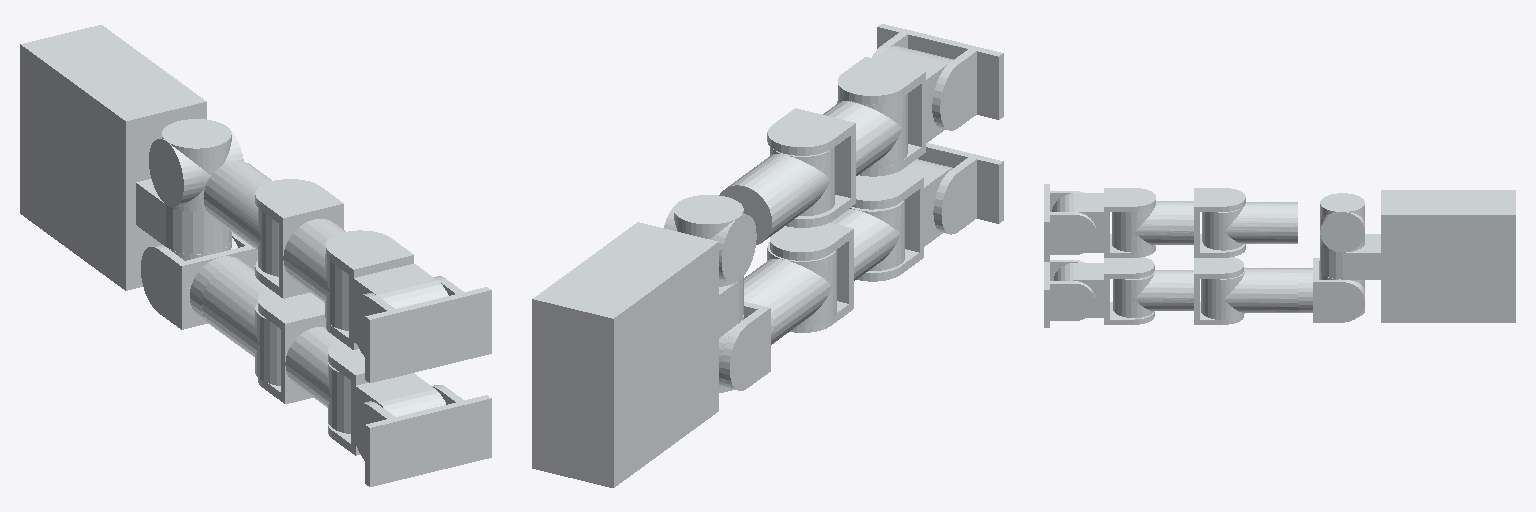
URDF robot description (simple_bipedal):
<?xml version="1.0" encoding="utf-8"?>
<!-- This URDF was automatically created by SolidWorks to URDF Exporter! Originally created by [author] ([email redacted]) 
     Commit Version:   Build Version: 1.6.9305.33219
     For more information, please see http://wiki.ros.org/sw_urdf_exporter -->
<robot
  name="simple_bipedal">
  <link
    name="base_link">
    <inertial>
      <origin
        xyz="3.14816865236183E-18 -0.0233636341691508 5.99607732512132E-17"
        rpy="0 0 0" />
      <mass
        value="10.4073975462643" />
      <inertia
        ixx="0.366615542809238"
        ixy="0.966734798109379E-17"
        ixz="0.761041258947234E-17"
        iyy="0.162745702837988"
        iyz="-0.218052171094121E-16"
        izz="0.270815583070119" />
    </inertial>
    <visual>
      <origin
        xyz="0 0 0"
        rpy="0 0 0" />
      <geometry>
        <mesh
          filename="package://simple_bipedal/meshes/base_link.STL" />
      </geometry>
      <material
        name="">
        <color
          rgba="0.898039215686275 0.917647058823529 0.929411764705882 1" />
      </material>
    </visual>
    <collision>
      <origin
        xyz="0 0 0"
        rpy="0 0 0" />
      <geometry>
        <mesh
          filename="package://simple_bipedal/meshes/base_link.STL" />
      </geometry>
    </collision>
  </link>
  <link
    name="hip_pitch_left_link">
    <inertial>
      <origin
        xyz="2.50382927681168E-08 -5.55111512312578E-17 2.50382927446946E-08"
        rpy="0 0 0" />
      <mass
        value="0.817782778579702" />
      <inertia
        ixx="0.00274609810436168"
        ixy="0.176383028134348E-08"
        ixz="0.513566616479572E-15"
        iyy="0.00285282306584235"
        iyz="-0.176383028106682E-08"
        izz="0.00274609810436168" />
    </inertial>
    <visual>
      <origin
        xyz="0 0 0"
        rpy="0 0 0" />
      <geometry>
        <mesh
          filename="package://simple_bipedal/meshes/hip_pitch_left_link.STL" />
      </geometry>
      <material
        name="">
        <color
          rgba="0.898039215686275 0.917647058823529 0.929411764705882 1" />
      </material>
    </visual>
    <collision>
      <origin
        xyz="0 0 0"
        rpy="0 0 0" />
      <geometry>
        <mesh
          filename="package://simple_bipedal/meshes/hip_pitch_left_link.STL" />
      </geometry>
    </collision>
  </link>
  <joint
    name="hip_pitch_left_joint"
    type="continuous">
    <origin
      xyz="0 -0.355 -0.125"
      rpy="0 0 0" />
    <parent
      link="base_link" />
    <child
      link="hip_pitch_left_link" />
    <axis
      xyz="0 0 1" />
  </joint>
  <link
    name="hip_roll_left_link">
    <inertial>
      <origin
        xyz="-8.88594652651202E-19 -0.0742004636472874 -2.77555756156289E-17"
        rpy="0 0 0" />
      <mass
        value="0.612916564770063" />
      <inertia
        ixx="0.00301865314382572"
        ixy="-0.197648441430744E-18"
        ixz="-0.25976824930112E-18"
        iyy="0.00340758392796289"
        iyz="0.120342273549719E-18"
        izz="0.0044385967333728" />
    </inertial>
    <visual>
      <origin
        xyz="0 0 0"
        rpy="0 0 0" />
      <geometry>
        <mesh
          filename="package://simple_bipedal/meshes/hip_roll_left_link.STL" />
      </geometry>
      <material
        name="">
        <color
          rgba="0.898039215686275 0.917647058823529 0.929411764705882 1" />
      </material>
    </visual>
    <collision>
      <origin
        xyz="0 0 0"
        rpy="0 0 0" />
      <geometry>
        <mesh
          filename="package://simple_bipedal/meshes/hip_roll_left_link.STL" />
      </geometry>
    </collision>
  </link>
  <joint
    name="hip_roll_left_joint"
    type="continuous">
    <origin
      xyz="0 0 0"
      rpy="0 0 0" />
    <parent
      link="hip_pitch_left_link" />
    <child
      link="hip_roll_left_link" />
    <axis
      xyz="1 0 0" />
  </joint>
  <link
    name="hip_yaw_left_link">
    <inertial>
      <origin
        xyz="-1.51139860408346E-08 -0.163359087286797 1.38777878078145E-17"
        rpy="0 0 0" />
      <mass
        value="1.59288324363201" />
      <inertia
        ixx="0.0158006429792871"
        ixy="0.681537911575121E-09"
        ixz="-0.486680100502339E-08"
        iyy="0.00486950529120668"
        iyz="0.284857007659769E-18"
        izz="0.0155807620289761" />
    </inertial>
    <visual>
      <origin
        xyz="0 0 0"
        rpy="0 0 0" />
      <geometry>
        <mesh
          filename="package://simple_bipedal/meshes/hip_yaw_left_link.STL" />
      </geometry>
      <material
        name="">
        <color
          rgba="0.898039215686275 0.917647058823529 0.929411764705882 1" />
      </material>
    </visual>
    <collision>
      <origin
        xyz="0 0 0"
        rpy="0 0 0" />
      <geometry>
        <mesh
          filename="package://simple_bipedal/meshes/hip_yaw_left_link.STL" />
      </geometry>
    </collision>
  </link>
  <joint
    name="hip_yaw_left_joint"
    type="continuous">
    <origin
      xyz="0 -0.15 0"
      rpy="0 0 0" />
    <parent
      link="hip_roll_left_link" />
    <child
      link="hip_yaw_left_link" />
    <axis
      xyz="0 -1 0" />
  </joint>
  <link
    name="knee_pitch_left_link">
    <inertial>
      <origin
        xyz="-2.57657030922869E-08 -0.195112626503353 -2.53453038001616E-08"
        rpy="0 0 0" />
      <mass
        value="1.73220695885815" />
      <inertia
        ixx="0.0243852593261598"
        ixy="0.637172732215568E-08"
        ixz="-0.473538003380343E-08"
        iyy="0.00694508483137373"
        iyz="-0.572266275466994E-08"
        izz="0.0227453959920081" />
    </inertial>
    <visual>
      <origin
        xyz="0 0 0"
        rpy="0 0 0" />
      <geometry>
        <mesh
          filename="package://simple_bipedal/meshes/knee_pitch_left_link.STL" />
      </geometry>
      <material
        name="">
        <color
          rgba="0.898039215686275 0.917647058823529 0.929411764705882 1" />
      </material>
    </visual>
    <collision>
      <origin
        xyz="0 0 0"
        rpy="0 0 0" />
      <geometry>
        <mesh
          filename="package://simple_bipedal/meshes/knee_pitch_left_link.STL" />
      </geometry>
    </collision>
  </link>
  <joint
    name="knee_pitch_left_joint"
    type="continuous">
    <origin
      xyz="0 -0.25 0"
      rpy="0 0 0" />
    <parent
      link="hip_yaw_left_link" />
    <child
      link="knee_pitch_left_link" />
    <axis
      xyz="0 0 1" />
  </joint>
  <link
    name="ankle_pitch_left_link">
    <inertial>
      <origin
        xyz="2.18852964426249E-18 -0.141401742541555 -2.77555756156289E-17"
        rpy="0 0 0" />
      <mass
        value="1.33431533790223" />
      <inertia
        ixx="0.0119819082175432"
        ixy="0.356064212644614E-18"
        ixz="-0.857344274603269E-19"
        iyy="0.00616832875211421"
        iyz="-0.153060376016585E-17"
        izz="0.0107284629027132" />
    </inertial>
    <visual>
      <origin
        xyz="0 0 0"
        rpy="0 0 0" />
      <geometry>
        <mesh
          filename="package://simple_bipedal/meshes/ankle_pitch_left_link.STL" />
      </geometry>
      <material
        name="">
        <color
          rgba="0.898039215686275 0.917647058823529 0.929411764705882 1" />
      </material>
    </visual>
    <collision>
      <origin
        xyz="0 0 0"
        rpy="0 0 0" />
      <geometry>
        <mesh
          filename="package://simple_bipedal/meshes/ankle_pitch_left_link.STL" />
      </geometry>
    </collision>
  </link>
  <joint
    name="ankle_pitch_left_joint"
    type="continuous">
    <origin
      xyz="0 -0.3 0"
      rpy="0 0 0" />
    <parent
      link="knee_pitch_left_link" />
    <child
      link="ankle_pitch_left_link" />
    <axis
      xyz="0 0 1" />
  </joint>
  <link
    name="ankle_roll_left_link">
    <inertial>
      <origin
        xyz="6.75518732543963E-18 -0.0513144703910333 1.38777878078145E-17"
        rpy="0 0 0" />
      <mass
        value="0.464559018505733" />
      <inertia
        ixx="0.00197277410568368"
        ixy="0.19750314774744E-18"
        ixz="-0.328074232638804E-18"
        iyy="0.00425686282909446"
        iyz="-0.173111382544016E-18"
        izz="0.00457633969523077" />
    </inertial>
    <visual>
      <origin
        xyz="0 0 0"
        rpy="0 0 0" />
      <geometry>
        <mesh
          filename="package://simple_bipedal/meshes/ankle_roll_left_link.STL" />
      </geometry>
      <material
        name="">
        <color
          rgba="0.898039215686275 0.917647058823529 0.929411764705882 1" />
      </material>
    </visual>
    <collision>
      <origin
        xyz="0 0 0"
        rpy="0 0 0" />
      <geometry>
        <mesh
          filename="package://simple_bipedal/meshes/ankle_roll_left_link.STL" />
      </geometry>
    </collision>
  </link>
  <joint
    name="ankle_roll_left_joint"
    type="continuous">
    <origin
      xyz="0 -0.2 0"
      rpy="0 0 0" />
    <parent
      link="ankle_pitch_left_link" />
    <child
      link="ankle_roll_left_link" />
    <axis
      xyz="1 0 0" />
  </joint>
  <link
    name="hip_pitch_right_link">
    <inertial>
      <origin
        xyz="2.50382927761668E-08 5.55111512312578E-17 2.50382927724502E-08"
        rpy="0 0 0" />
      <mass
        value="0.817782778579702" />
      <inertia
        ixx="0.00274609810436168"
        ixy="0.176383028094622E-08"
        ixz="0.513166804588344E-15"
        iyy="0.00285282306584235"
        iyz="-0.176383028105973E-08"
        izz="0.00274609810436168" />
    </inertial>
    <visual>
      <origin
        xyz="0 0 0"
        rpy="0 0 0" />
      <geometry>
        <mesh
          filename="package://simple_bipedal/meshes/hip_pitch_right_link.STL" />
      </geometry>
      <material
        name="">
        <color
          rgba="0.898039215686275 0.917647058823529 0.929411764705882 1" />
      </material>
    </visual>
    <collision>
      <origin
        xyz="0 0 0"
        rpy="0 0 0" />
      <geometry>
        <mesh
          filename="package://simple_bipedal/meshes/hip_pitch_right_link.STL" />
      </geometry>
    </collision>
  </link>
  <joint
    name="hip_pitch_right_joint"
    type="continuous">
    <origin
      xyz="0 -0.355 0.125"
      rpy="0 0 0" />
    <parent
      link="base_link" />
    <child
      link="hip_pitch_right_link" />
    <axis
      xyz="0 0 1" />
  </joint>
  <link
    name="hip_roll_right_link">
    <inertial>
      <origin
        xyz="-7.36727495988482E-18 -0.0742004636472874 0"
        rpy="0 0 0" />
      <mass
        value="0.612916564770063" />
      <inertia
        ixx="0.00301865314382572"
        ixy="-0.165758435059659E-18"
        ixz="-0.229671192274964E-18"
        iyy="0.00340758392796289"
        iyz="0.165850481115776E-18"
        izz="0.0044385967333728" />
    </inertial>
    <visual>
      <origin
        xyz="0 0 0"
        rpy="0 0 0" />
      <geometry>
        <mesh
          filename="package://simple_bipedal/meshes/hip_roll_right_link.STL" />
      </geometry>
      <material
        name="">
        <color
          rgba="0.898039215686275 0.917647058823529 0.929411764705882 1" />
      </material>
    </visual>
    <collision>
      <origin
        xyz="0 0 0"
        rpy="0 0 0" />
      <geometry>
        <mesh
          filename="package://simple_bipedal/meshes/hip_roll_right_link.STL" />
      </geometry>
    </collision>
  </link>
  <joint
    name="hip_roll_right_joint"
    type="continuous">
    <origin
      xyz="0 0 0"
      rpy="0 0 0" />
    <parent
      link="hip_pitch_right_link" />
    <child
      link="hip_roll_right_link" />
    <axis
      xyz="1 0 0" />
  </joint>
  <link
    name="hip_yaw_right_link">
    <inertial>
      <origin
        xyz="-1.51139860422597E-08 -0.163359087286797 0"
        rpy="0 0 0" />
      <mass
        value="1.59288324363201" />
      <inertia
        ixx="0.0158006429792871"
        ixy="0.681537911357161E-09"
        ixz="-0.486680100505176E-08"
        iyy="0.00486950529120669"
        iyz="0.216392355495271E-18"
        izz="0.0155807620289761" />
    </inertial>
    <visual>
      <origin
        xyz="0 0 0"
        rpy="0 0 0" />
      <geometry>
        <mesh
          filename="package://simple_bipedal/meshes/hip_yaw_right_link.STL" />
      </geometry>
      <material
        name="">
        <color
          rgba="0.898039215686275 0.917647058823529 0.929411764705882 1" />
      </material>
    </visual>
    <collision>
      <origin
        xyz="0 0 0"
        rpy="0 0 0" />
      <geometry>
        <mesh
          filename="package://simple_bipedal/meshes/hip_yaw_right_link.STL" />
      </geometry>
    </collision>
  </link>
  <joint
    name="hip_yaw_right_joint"
    type="continuous">
    <origin
      xyz="0 -0.15 0"
      rpy="0 0 0" />
    <parent
      link="hip_roll_right_link" />
    <child
      link="hip_yaw_right_link" />
    <axis
      xyz="0 -1 0" />
  </joint>
  <link
    name="knee_pitch_right_link">
    <inertial>
      <origin
        xyz="-2.57657030843257E-08 -0.195112626503353 -2.53453038001616E-08"
        rpy="0 0 0" />
      <mass
        value="1.73220695885815" />
      <inertia
        ixx="0.0243852593261598"
        ixy="0.637172732266414E-08"
        ixz="-0.473538003406399E-08"
        iyy="0.00694508483137373"
        iyz="-0.572266275207433E-08"
        izz="0.0227453959920081" />
    </inertial>
    <visual>
      <origin
        xyz="0 0 0"
        rpy="0 0 0" />
      <geometry>
        <mesh
          filename="package://simple_bipedal/meshes/knee_pitch_right_link.STL" />
      </geometry>
      <material
        name="">
        <color
          rgba="0.898039215686275 0.917647058823529 0.929411764705882 1" />
      </material>
    </visual>
    <collision>
      <origin
        xyz="0 0 0"
        rpy="0 0 0" />
      <geometry>
        <mesh
          filename="package://simple_bipedal/meshes/knee_pitch_right_link.STL" />
      </geometry>
    </collision>
  </link>
  <joint
    name="knee_pitch_right_joint"
    type="continuous">
    <origin
      xyz="0 -0.25 0"
      rpy="0 0 0" />
    <parent
      link="hip_yaw_right_link" />
    <child
      link="knee_pitch_right_link" />
    <axis
      xyz="0 0 1" />
  </joint>
  <link
    name="ankle_pitch_right_link">
    <inertial>
      <origin
        xyz="-5.33523512629707E-19 -0.141401742541555 -1.38777878078145E-17"
        rpy="0 0 0" />
      <mass
        value="1.33431533790223" />
      <inertia
        ixx="0.0119819082175432"
        ixy="0.449687333526178E-18"
        ixz="-0.573588237273077E-19"
        iyy="0.00616832875211421"
        iyz="30..107417489958E-19"
        izz="0.0107284629027132" />
    </inertial>
    <visual>
      <origin
        xyz="0 0 0"
        rpy="0 0 0" />
      <geometry>
        <mesh
          filename="package://simple_bipedal/meshes/ankle_pitch_right_link.STL" />
      </geometry>
      <material
        name="">
        <color
          rgba="0.898039215686275 0.917647058823529 0.929411764705882 1" />
      </material>
    </visual>
    <collision>
      <origin
        xyz="0 0 0"
        rpy="0 0 0" />
      <geometry>
        <mesh
          filename="package://simple_bipedal/meshes/ankle_pitch_right_link.STL" />
      </geometry>
    </collision>
  </link>
  <joint
    name="ankle_pitch_right_joint"
    type="continuous">
    <origin
      xyz="0 -0.3 0"
      rpy="0 0 0" />
    <parent
      link="knee_pitch_right_link" />
    <child
      link="ankle_pitch_right_link" />
    <axis
      xyz="0 0 1" />
  </joint>
  <link
    name="ankle_roll_right_link">
    <inertial>
      <origin
        xyz="3.0417250453847E-18 -0.0513144703910333 -1.38777878078145E-17"
        rpy="0 0 0" />
      <mass
        value="0.464559018505733" />
      <inertia
        ixx="0.00197277410568368"
        ixy="0.237138749549365E-18"
        ixz="-0.157816614955685E-18"
        iyy="0.00425686282909446"
        iyz="-0.354638334121962E-18"
        izz="0.00457633969523077" />
    </inertial>
    <visual>
      <origin
        xyz="0 0 0"
        rpy="0 0 0" />
      <geometry>
        <mesh
          filename="package://simple_bipedal/meshes/ankle_roll_right_link.STL" />
      </geometry>
      <material
        name="">
        <color
          rgba="0.898039215686275 0.917647058823529 0.929411764705882 1" />
      </material>
    </visual>
    <collision>
      <origin
        xyz="0 0 0"
        rpy="0 0 0" />
      <geometry>
        <mesh
          filename="package://simple_bipedal/meshes/ankle_roll_right_link.STL" />
      </geometry>
    </collision>
  </link>
  <joint
    name="ankle_roll_right_joint"
    type="continuous">
    <origin
      xyz="0 -0.2 0"
      rpy="0 0 0" />
    <parent
      link="ankle_pitch_right_link" />
    <child
      link="ankle_roll_right_link" />
    <axis
      xyz="1 0 0" />
  </joint>
</robot>

--- Facts derived from the render (not from the file) ---
Views: 3 orthographic renders of the robot side by side, from view 1: azimuth 30°, elevation 25°; view 2: azimuth 150°, elevation 25°; view 3: azimuth 270°, elevation 25°.
Robot: simple_bipedal — 13 links, 12 joints (12 continuous); root link base_link; default pose: all joints at 0.
Visible links, largest first — view 1: base_link, ankle_roll_right_link, ankle_roll_left_link, knee_pitch_right_link, knee_pitch_left_link, ankle_pitch_right_link, hip_pitch_right_link, hip_yaw_left_link, hip_roll_left_link, hip_yaw_right_link, ankle_pitch_left_link; view 2: base_link, knee_pitch_right_link, knee_pitch_left_link, ankle_pitch_right_link, ankle_roll_right_link, hip_yaw_right_link, hip_yaw_left_link, ankle_pitch_left_link, ankle_roll_left_link, hip_pitch_right_link, hip_roll_left_link; view 3: base_link, knee_pitch_right_link, knee_pitch_left_link, hip_yaw_left_link, hip_yaw_right_link, ankle_pitch_right_link, ankle_pitch_left_link, hip_roll_left_link, hip_pitch_right_link, ankle_roll_right_link, ankle_roll_left_link.
Boxes of the visible links, x1,y1,x2,y2 form: base_link: (20, 25, 231, 290); ankle_roll_right_link: (351, 276, 491, 382); ankle_roll_left_link: (352, 385, 491, 486); knee_pitch_right_link: (255, 179, 348, 330); knee_pitch_left_link: (258, 289, 350, 433); ankle_pitch_right_link: (326, 230, 448, 349); hip_pitch_right_link: (149, 119, 243, 211); hip_yaw_left_link: (202, 265, 280, 385); hip_roll_left_link: (141, 232, 257, 329); hip_yaw_right_link: (203, 161, 278, 276); ankle_pitch_left_link: (328, 341, 445, 455); base_link: (532, 222, 743, 487); knee_pitch_right_link: (767, 93, 907, 227); knee_pitch_left_link: (770, 200, 904, 332); ankle_pitch_right_link: (838, 46, 952, 176); ankle_roll_right_link: (872, 24, 1003, 130); hip_yaw_right_link: (719, 147, 834, 244); hip_yaw_left_link: (744, 242, 836, 344); ankle_pitch_left_link: (852, 159, 952, 281); ankle_roll_left_link: (918, 143, 1003, 234); hip_pitch_right_link: (664, 195, 756, 286); hip_roll_left_link: (722, 290, 773, 390); base_link: (1320, 190, 1515, 322); knee_pitch_right_link: (1112, 188, 1245, 257); knee_pitch_left_link: (1113, 257, 1243, 324); hip_yaw_left_link: (1201, 267, 1297, 319); hip_yaw_right_link: (1202, 202, 1297, 250); ankle_pitch_right_link: (1052, 188, 1155, 257); ankle_pitch_left_link: (1054, 257, 1154, 324); hip_roll_left_link: (1298, 258, 1364, 322); hip_pitch_right_link: (1320, 193, 1364, 252); ankle_roll_right_link: (1044, 184, 1096, 261); ankle_roll_left_link: (1044, 260, 1094, 327).
Size in the robot's own frame: 0.3 by 1.58 by 0.44 metres.
12 mesh visuals loaded from 13 distinct referenced files (12 binary STL); not drawn: 1 (reference not matched to a file when rendering).